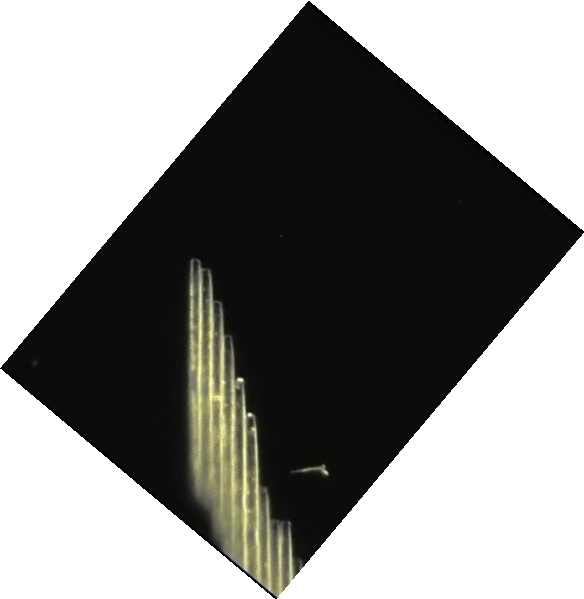bacilleria: (199, 269, 218, 508), (188, 258, 203, 501), (221, 337, 235, 558), (211, 302, 224, 534), (243, 412, 260, 582), (231, 376, 246, 567), (256, 486, 270, 590), (269, 517, 281, 599), (281, 521, 293, 589)
